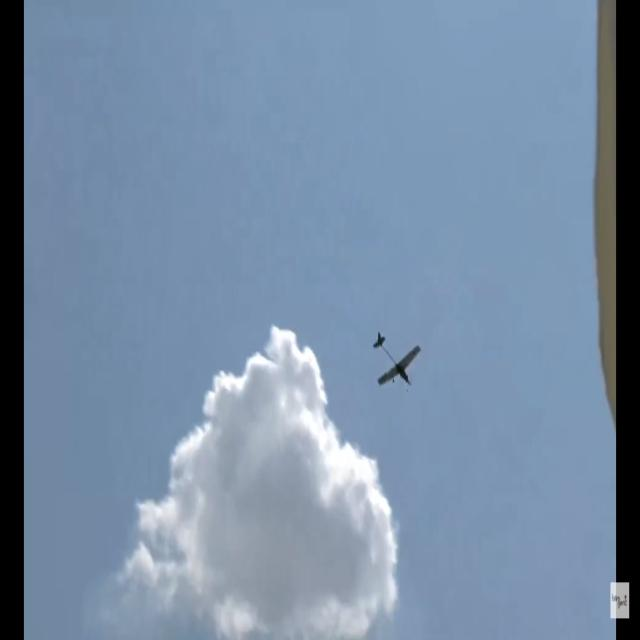iha: (372, 331, 421, 393)
